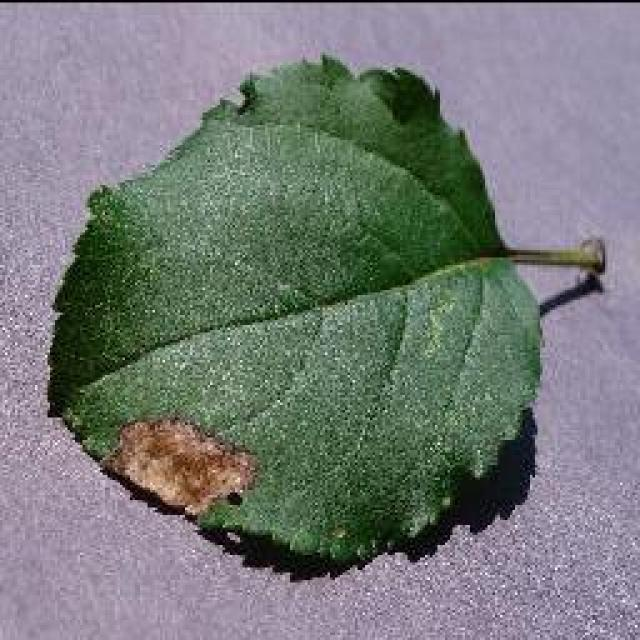black_rot: (92, 409, 268, 524)
